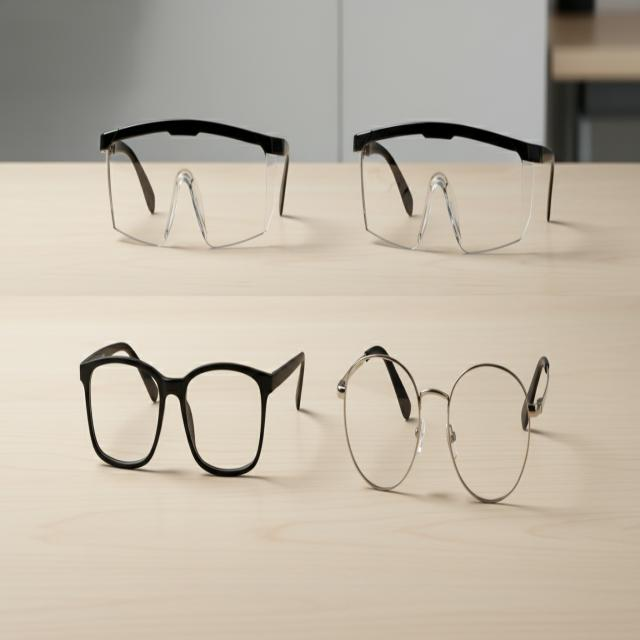oculos-epi: (353, 122, 554, 253), (101, 120, 290, 248)
sem_oculos: (338, 347, 544, 501), (80, 342, 304, 476)
